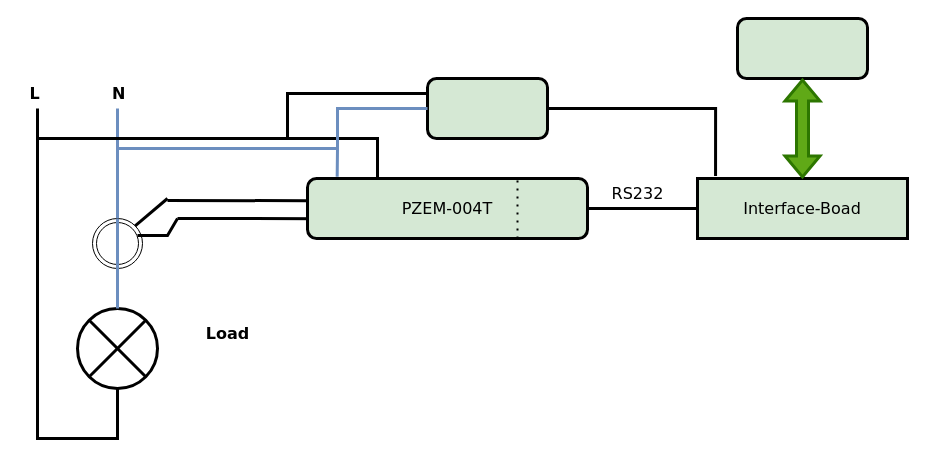
This 926x458 diagram has some shape labels left out. The box of each missing label's shape, as (x1, y1, x2, y2) in pixels:
ESP8266: (736, 16, 868, 80)
HiLink AC/DC: (426, 76, 548, 140)
